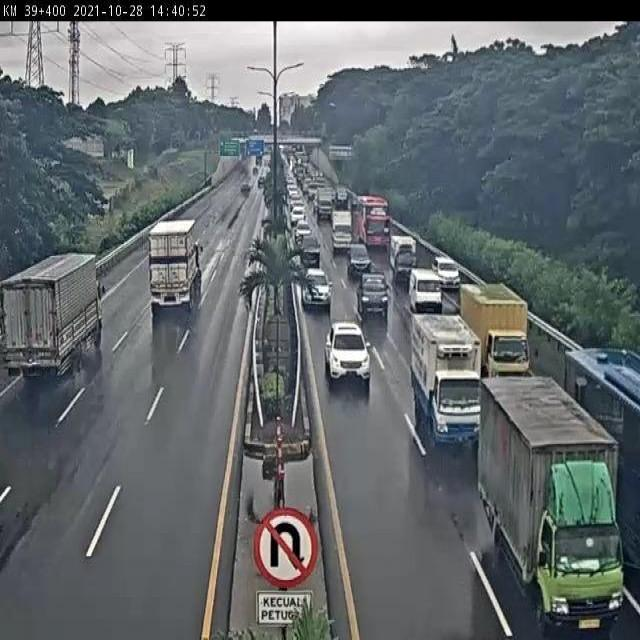big truck: (147, 218, 201, 310)
car: (325, 322, 373, 389), (408, 268, 445, 313), (355, 271, 390, 317), (300, 264, 331, 311), (431, 253, 460, 291), (347, 240, 374, 273)
truck-m-: (480, 376, 624, 631), (0, 252, 102, 380), (410, 312, 488, 451), (457, 280, 530, 381)
truck-s-: (387, 233, 419, 280)
